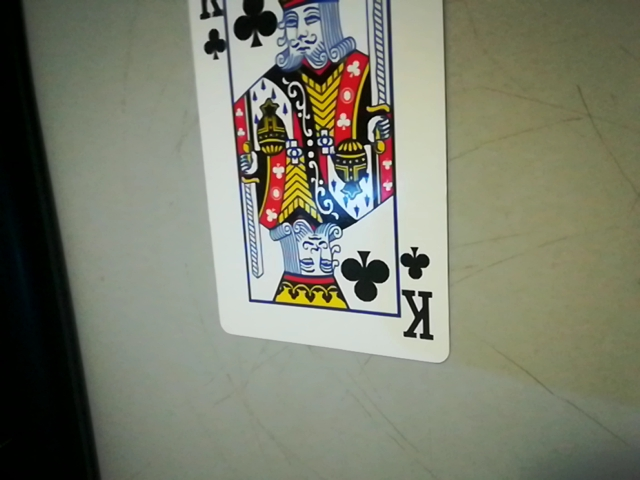mh k: (393, 241, 440, 354)
